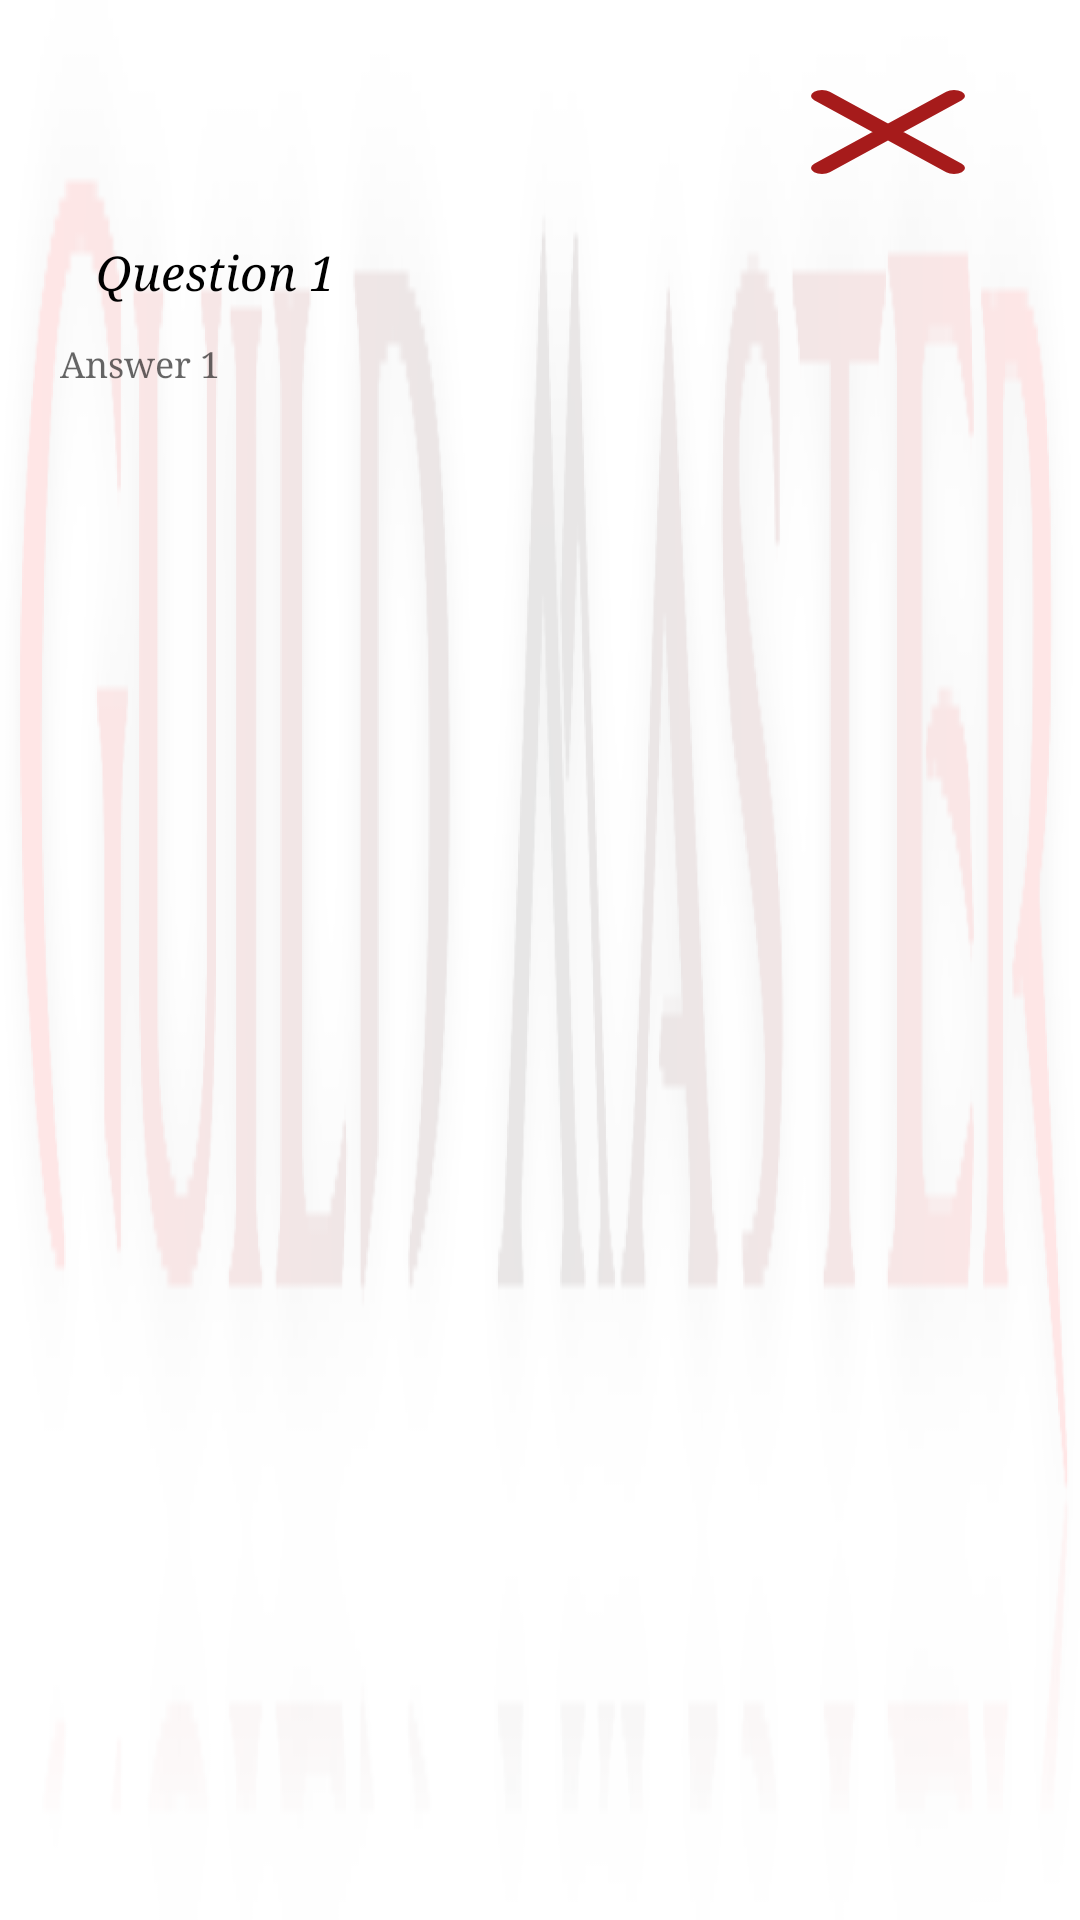

Screen size 1080x1920. Icon name, then its box in pixels as bbox(x1, y1, x2, y2):
Close dialog button: bbox(811, 90, 965, 174)
